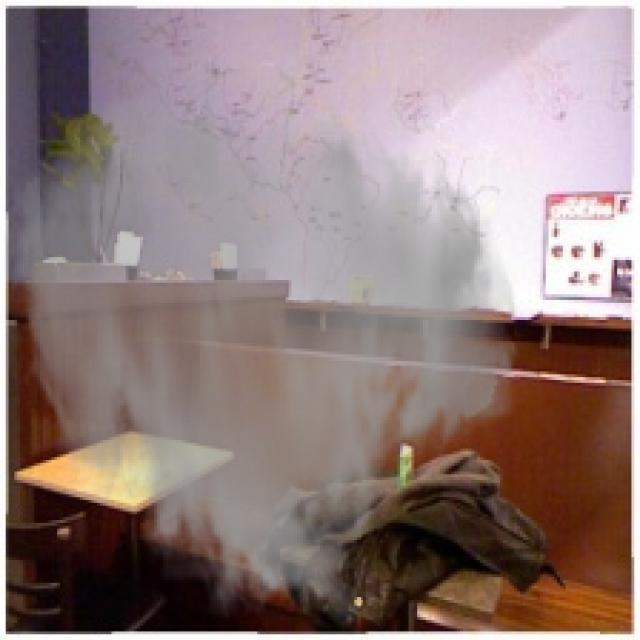Smoke: (3, 83, 523, 632)
